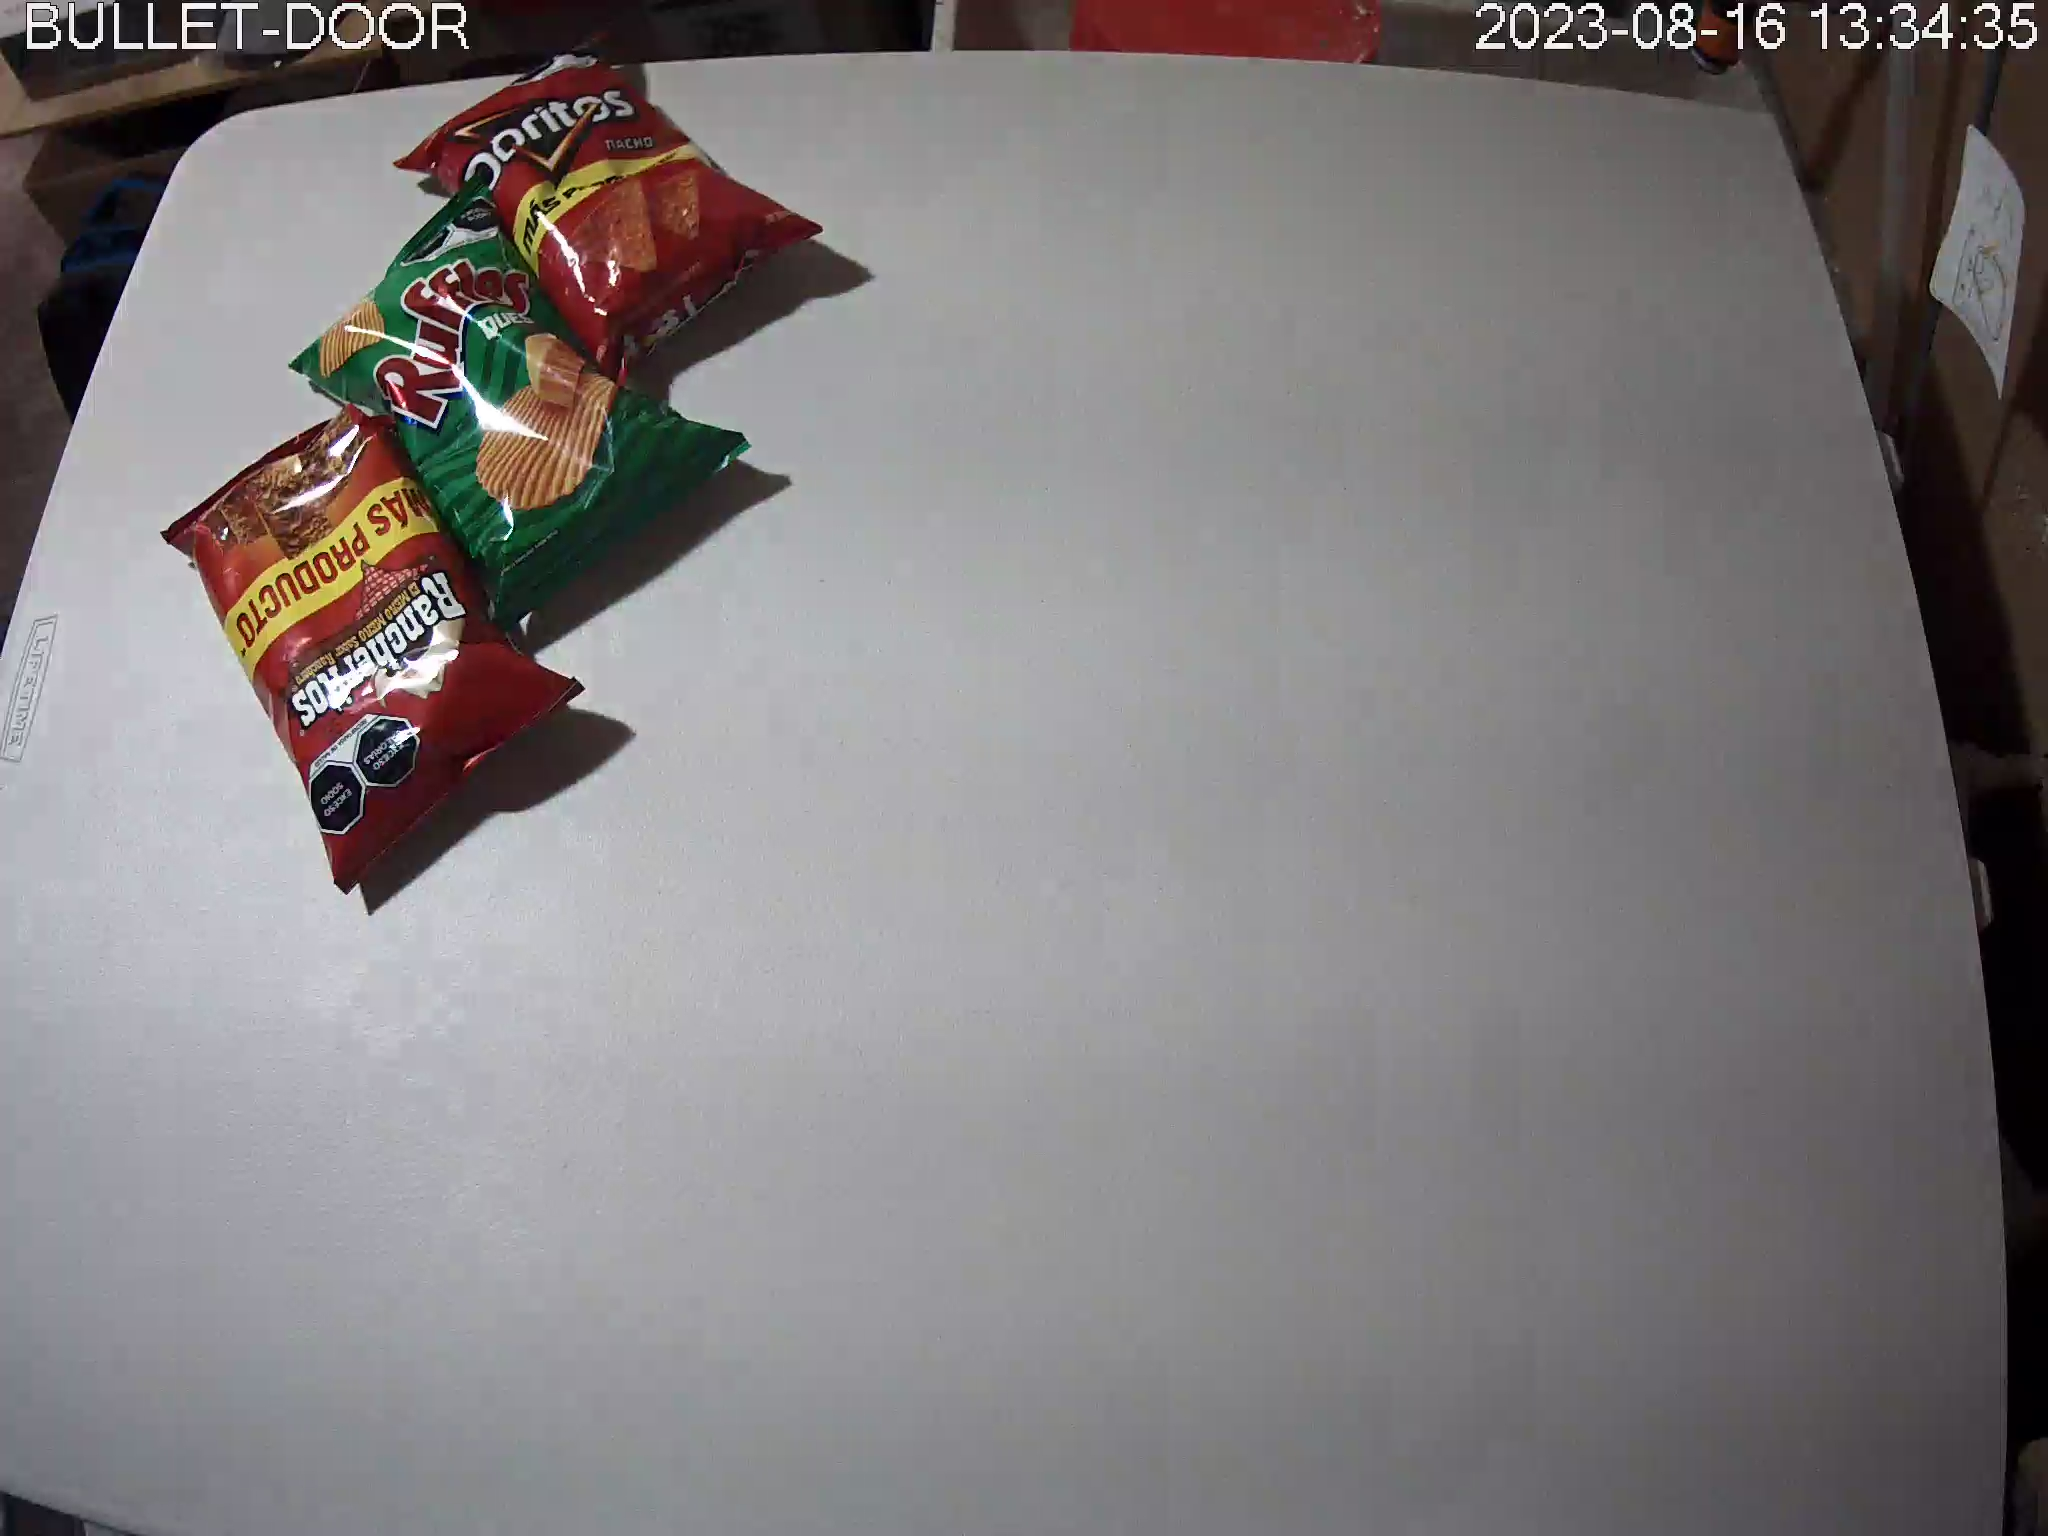DoritosN_61_F: (397, 29, 826, 400)
Rancheritos_58_F: (163, 387, 585, 894)
RufflesQ_48_F: (285, 173, 751, 637)
